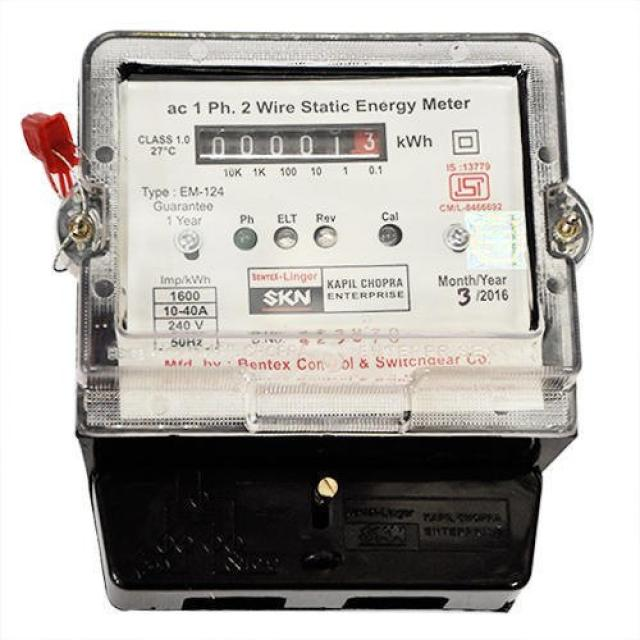0: (294, 132, 317, 156), (236, 134, 258, 159), (267, 132, 286, 158), (211, 136, 228, 161)
1: (329, 134, 344, 158)
3: (361, 130, 379, 156)
analog meter: (192, 128, 398, 167)
